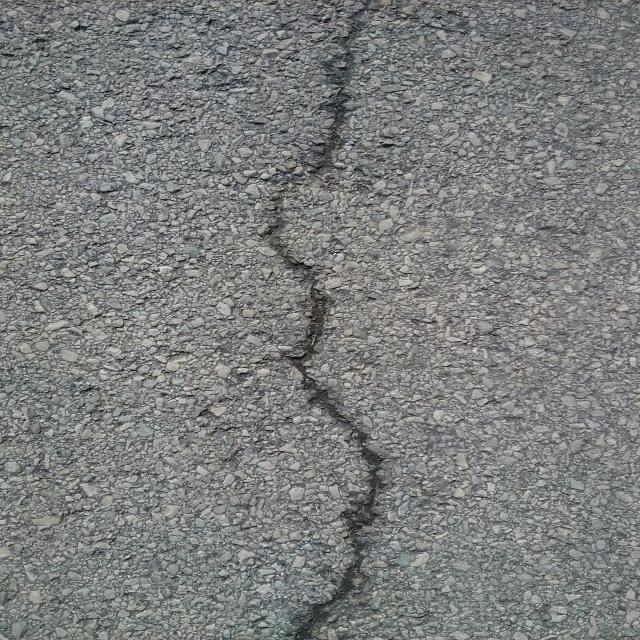Longitudial: (197, 0, 427, 640)
